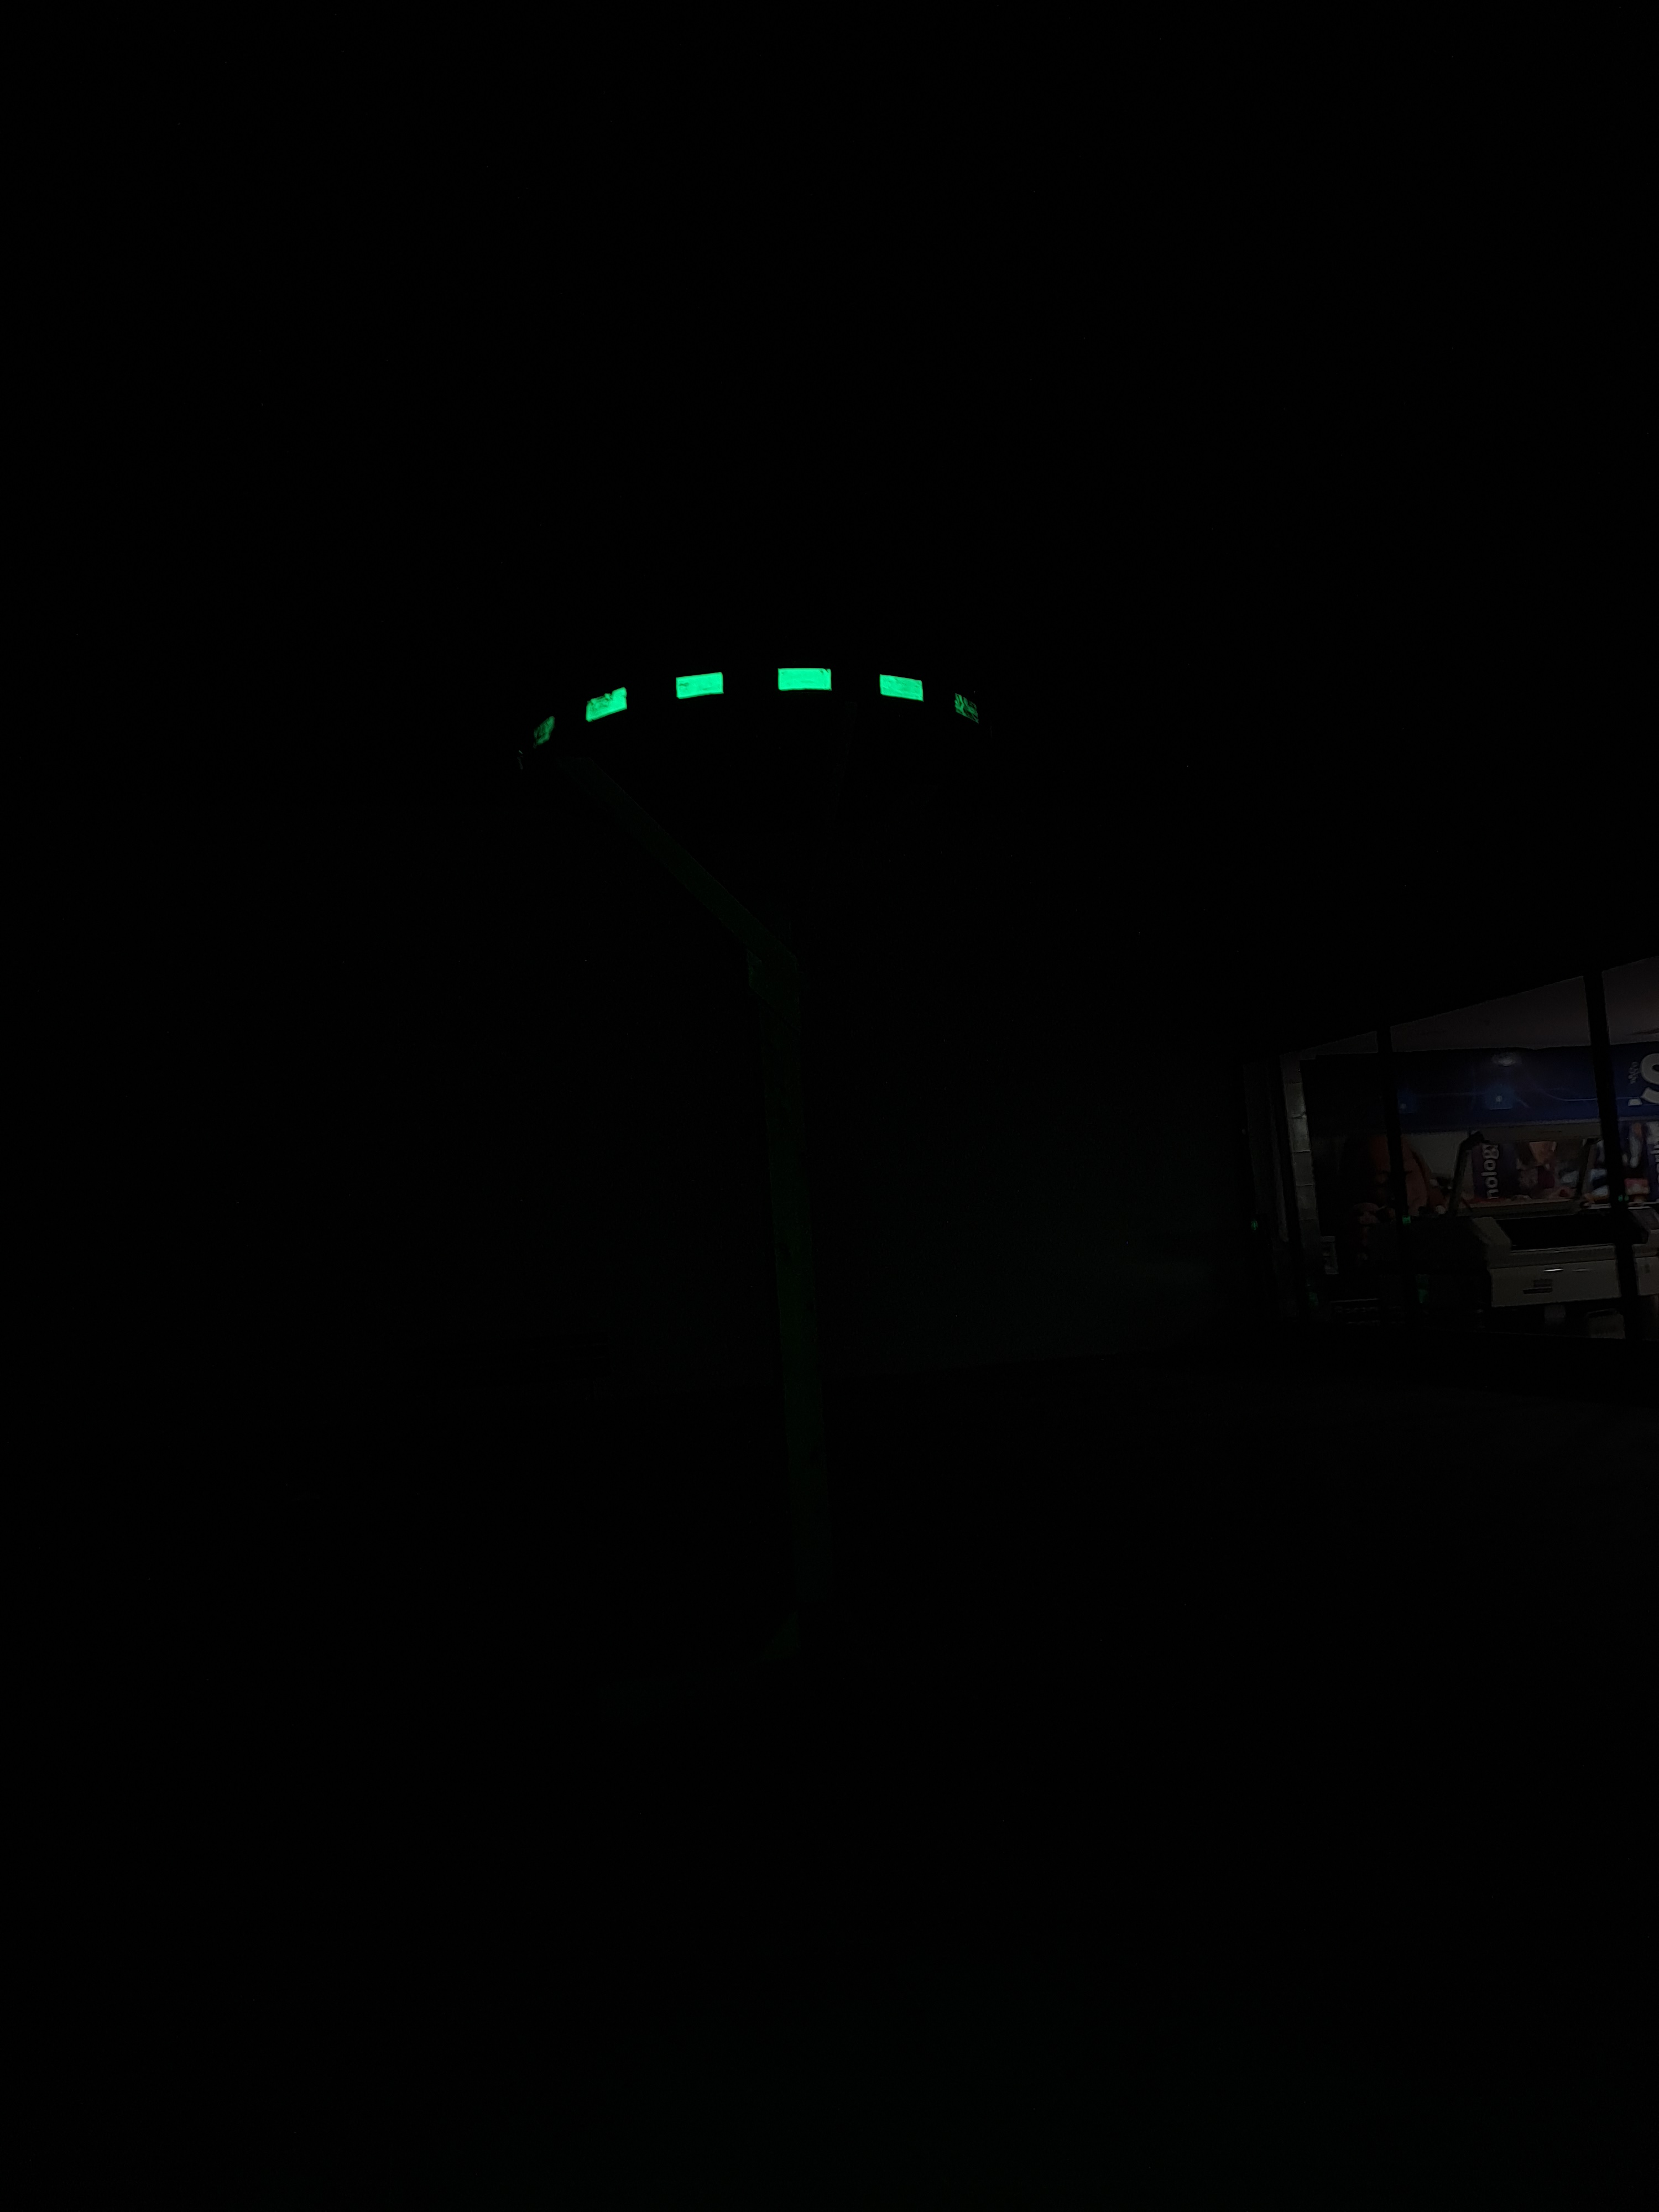hoop: (500, 644, 1011, 747)
